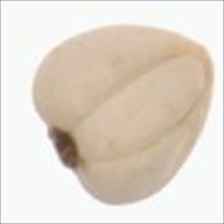L5: (72, 51, 209, 162), (45, 123, 80, 173)
L6: (30, 20, 216, 206)
